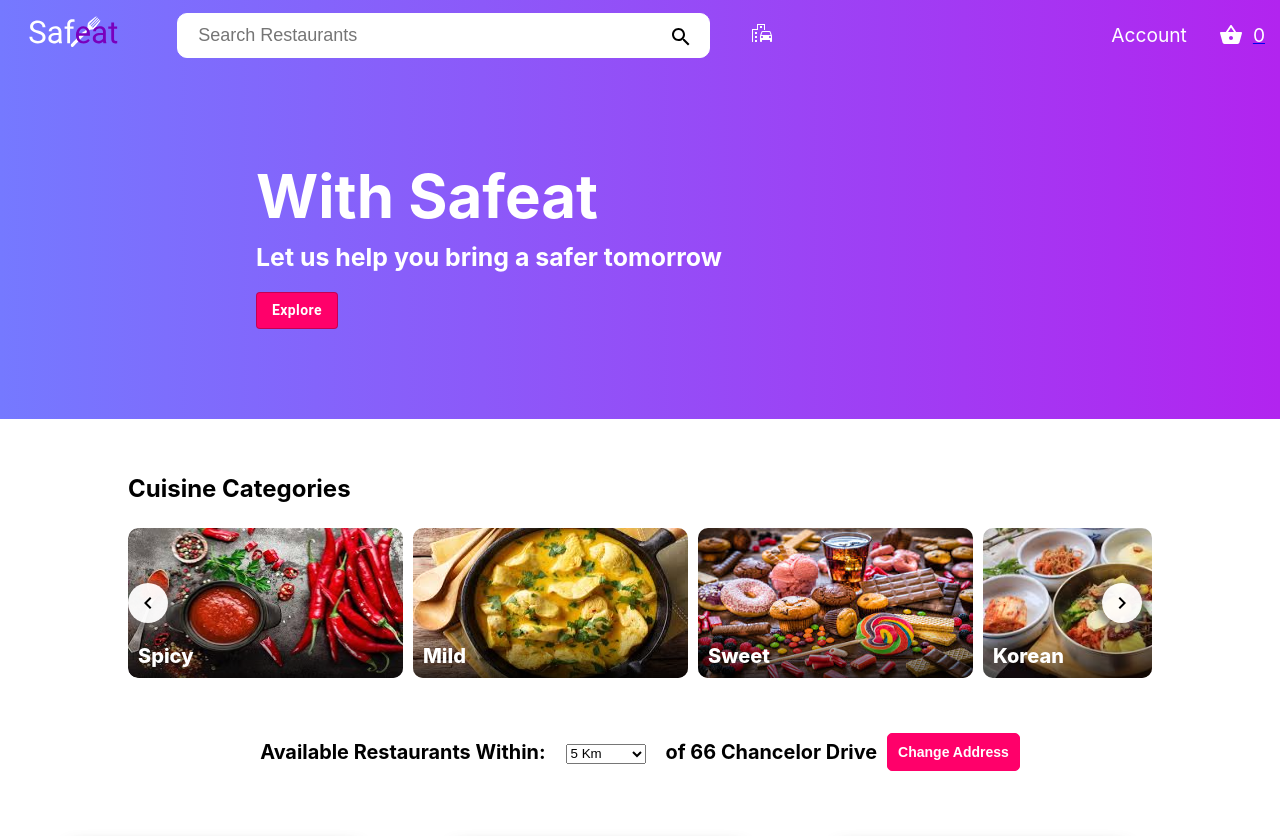
Test: Search Restaurants By Tag
The image size is (1280, 836).
Type "Sweet" into the field with placeholder "Search Restaurants" at (314, 35), box [188,24,440,46]
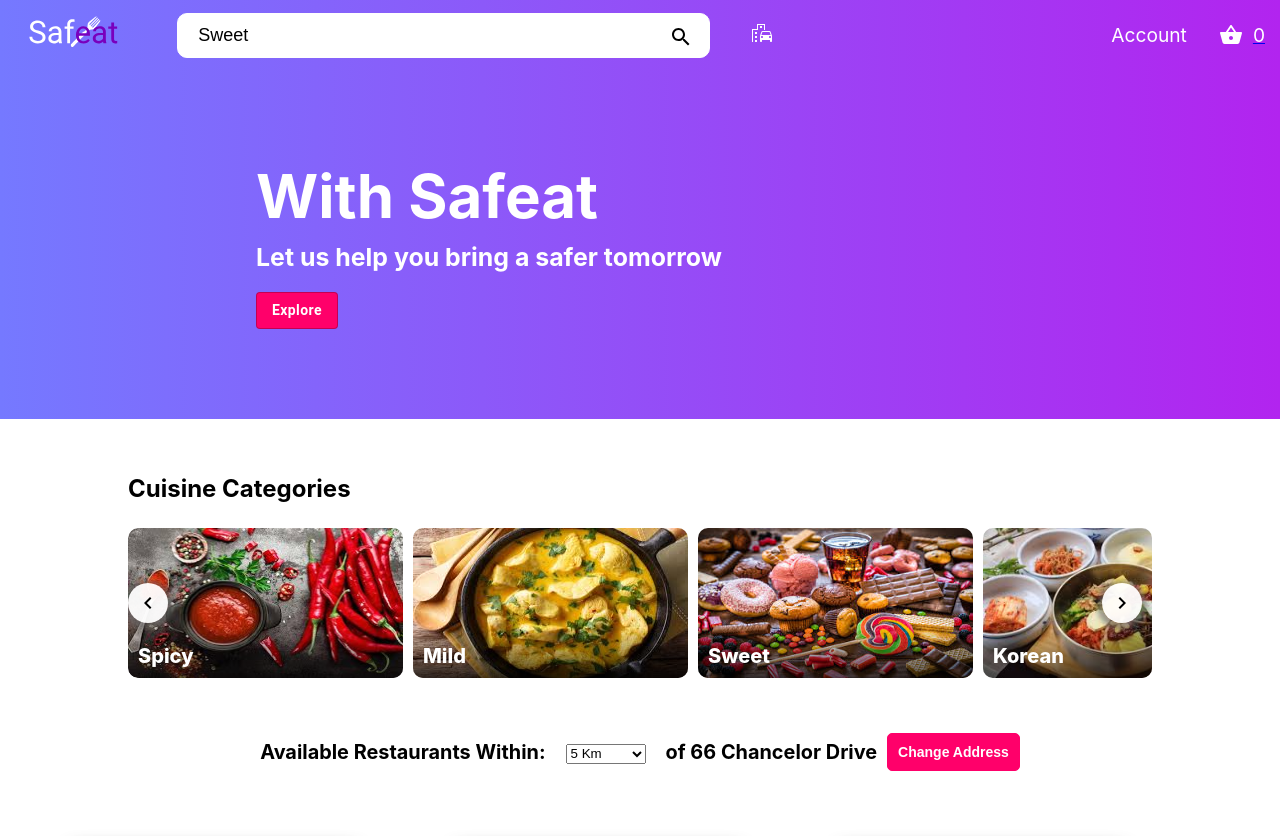
Submit the form from the field with placeholder "Search Restaurants", box [188,24,440,46]
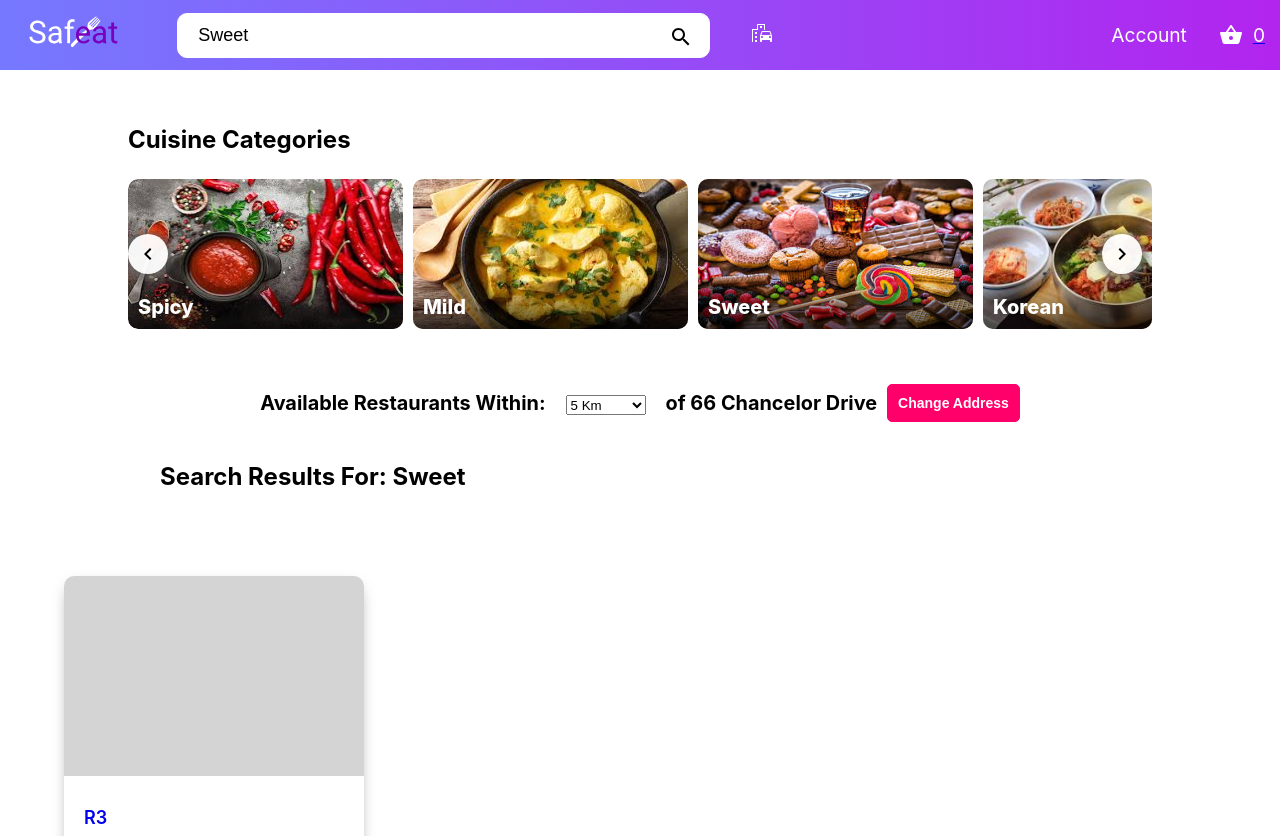
Expected: the heading "R3" is shown, [84,807,107,828]
Expected: the heading "Search Results For: Sweet" is shown, [160,462,466,491]
